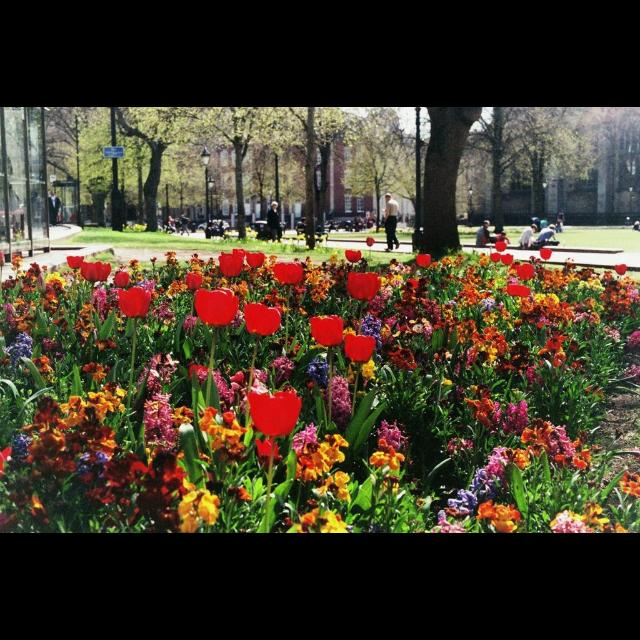Flower: (250, 387, 302, 441), (195, 286, 241, 330), (246, 295, 282, 339), (120, 282, 152, 320), (308, 314, 342, 346), (348, 328, 374, 362), (274, 260, 302, 290), (78, 260, 110, 286), (350, 271, 382, 297), (218, 250, 245, 276), (232, 250, 266, 268), (516, 262, 534, 282), (116, 266, 130, 290), (188, 272, 204, 290), (506, 285, 530, 297), (345, 250, 361, 264), (417, 252, 431, 268), (66, 256, 84, 268), (540, 248, 552, 262), (501, 252, 511, 268), (493, 242, 507, 252), (364, 237, 374, 250), (491, 252, 501, 262)
